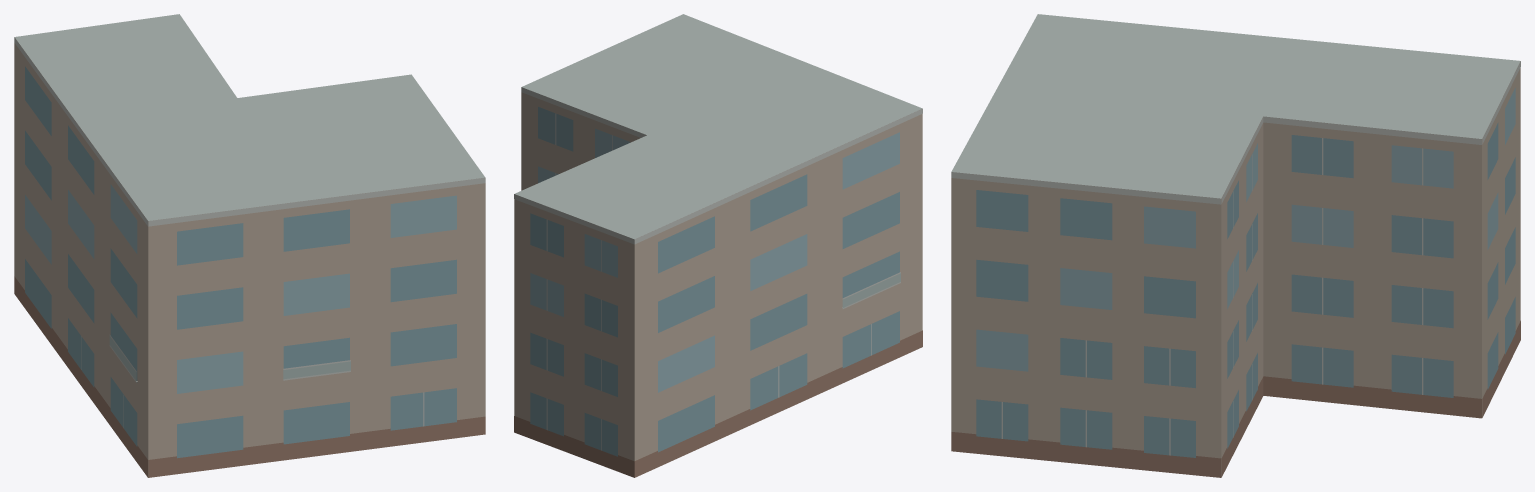
The model's file is survey-upis-32861476.glb.
The picture shows the model from 3 angles, left to right: view 1: azimuth 30°, elevation 25°; view 2: azimuth 150°, elevation 25°; view 3: azimuth 270°, elevation 25°; orthographic projection. The views are drawn at different scales.
Parts seen in each view (by area): view 1: survey-upis-32861476.tmp; view 2: survey-upis-32861476.tmp; view 3: survey-upis-32861476.tmp.
Boxes of the visible parts, box(x1,y1,x2,y2) form: survey-upis-32861476.tmp: box(14, 14, 485, 477); survey-upis-32861476.tmp: box(514, 14, 922, 477); survey-upis-32861476.tmp: box(951, 14, 1520, 477).
Size of the model in its own units: 16.03 by 11.3 by 20.89.
